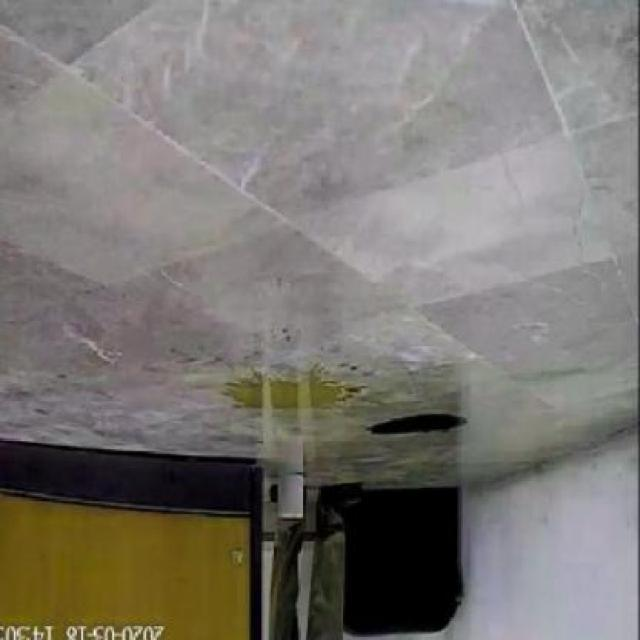spillage: (221, 370, 360, 417), (367, 412, 467, 434)
